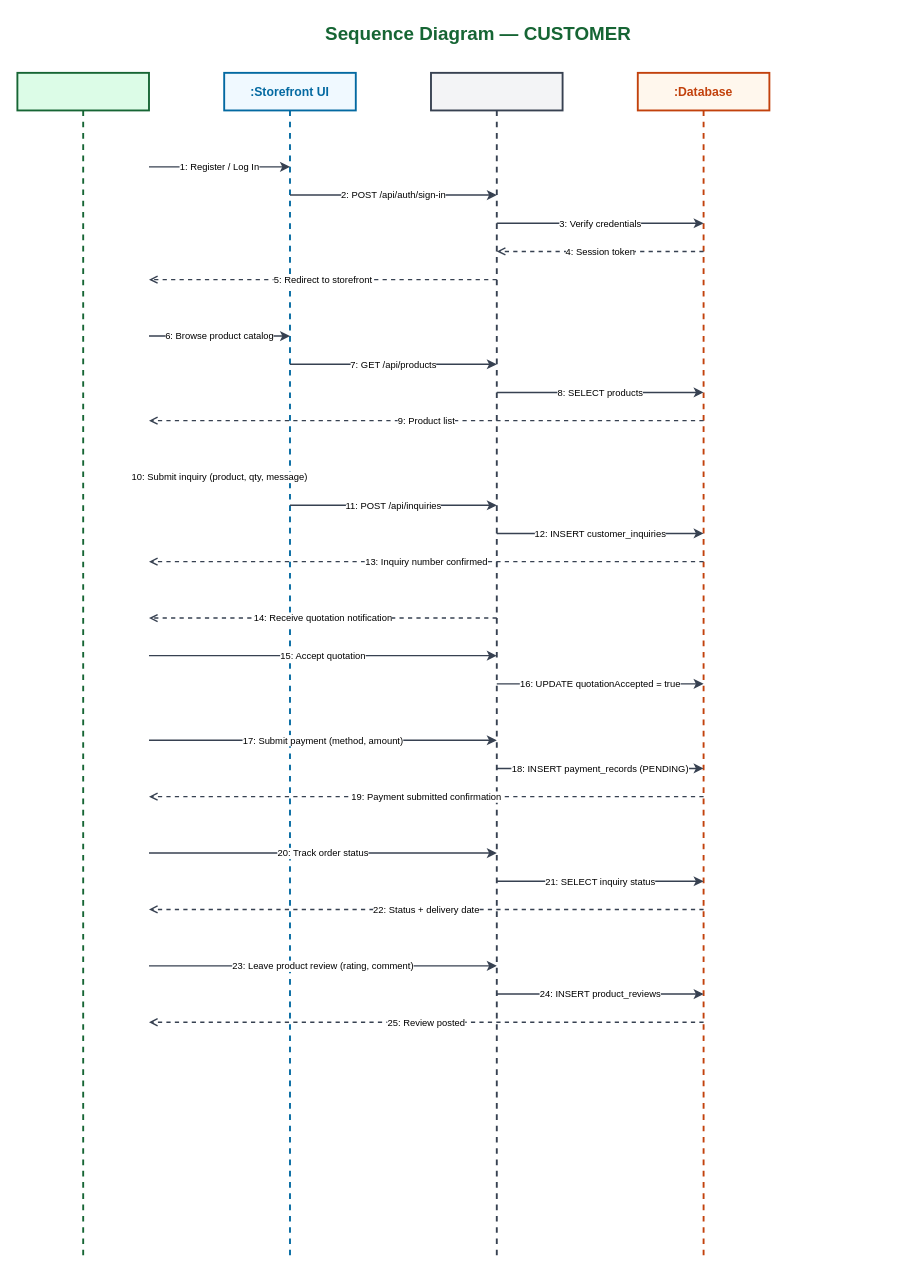
This 917x1274 diagram has some shape labels left out. The box of each missing label's shape, as (x1, y1, x2, y2) in pixels:
:API / System: (430, 71, 563, 1258)
:Customer: (16, 71, 149, 1258)
